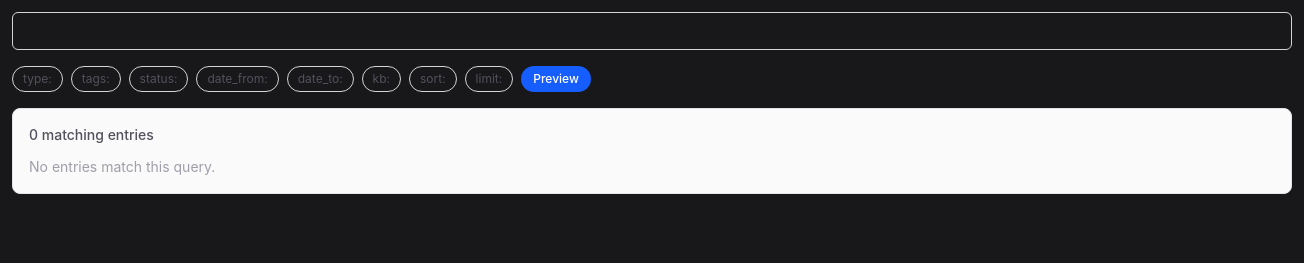
Scenario: QueryBuilder › preview shows overflow count
The width and height of the screenshot is (1304, 263).
Click the button "Preview": [556, 79] box [521, 66, 591, 92]
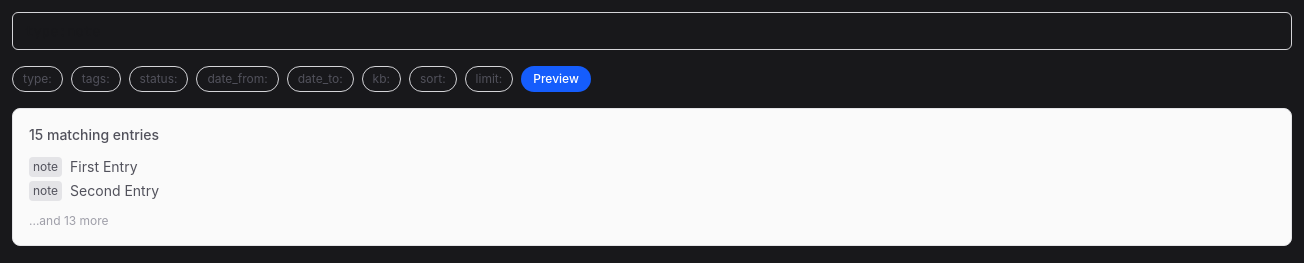
Now the text "...and 13 more" is shown, box [29, 213, 109, 228]
